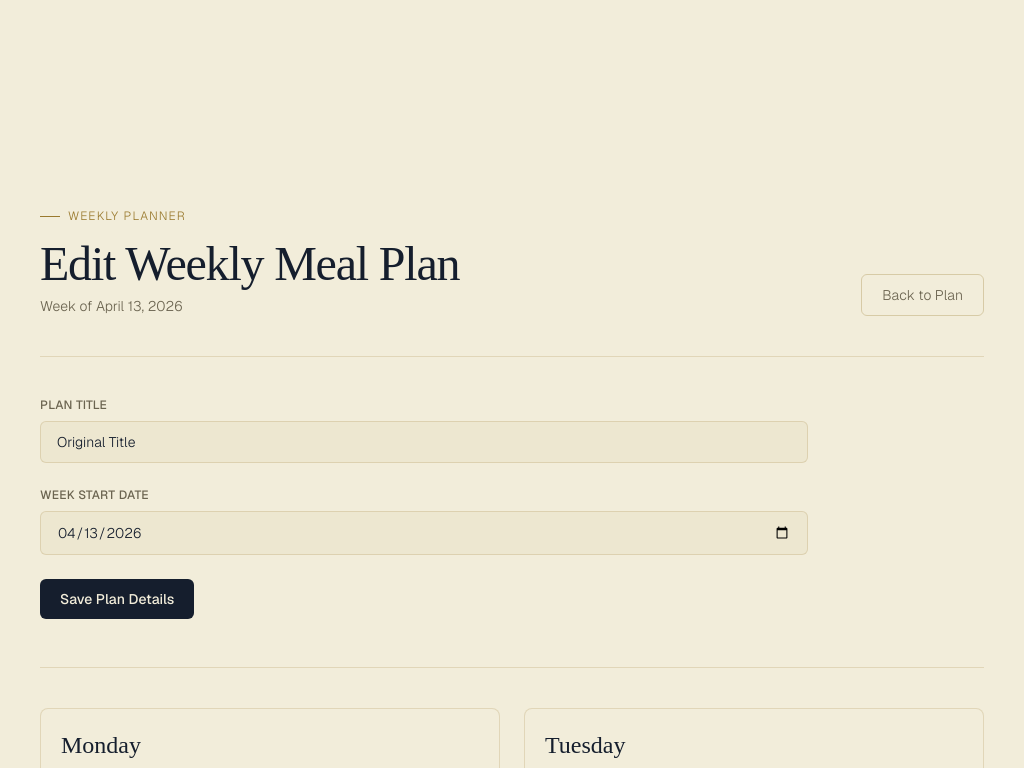
Scenario: Edit page: pre-filled data, validation, and saving plan details › shows loaded plan fields, surfaces PATCH errors for invalid data, then succeeds on valid Save
Expected: the field with placeholder "Exam Week Plan" holds "Original Title", [40,421,808,463]
Clear the date field at (424, 533), box [40,511,808,555]
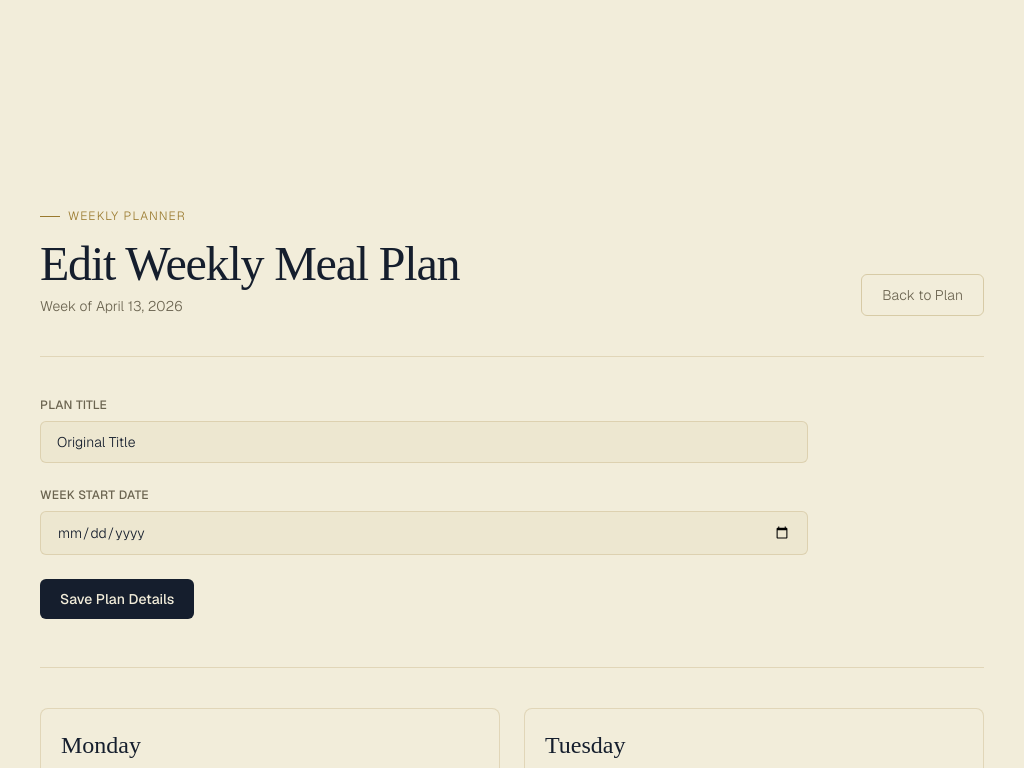
Click the button "Save Plan Details" at (117, 599), box [40,579,194,619]
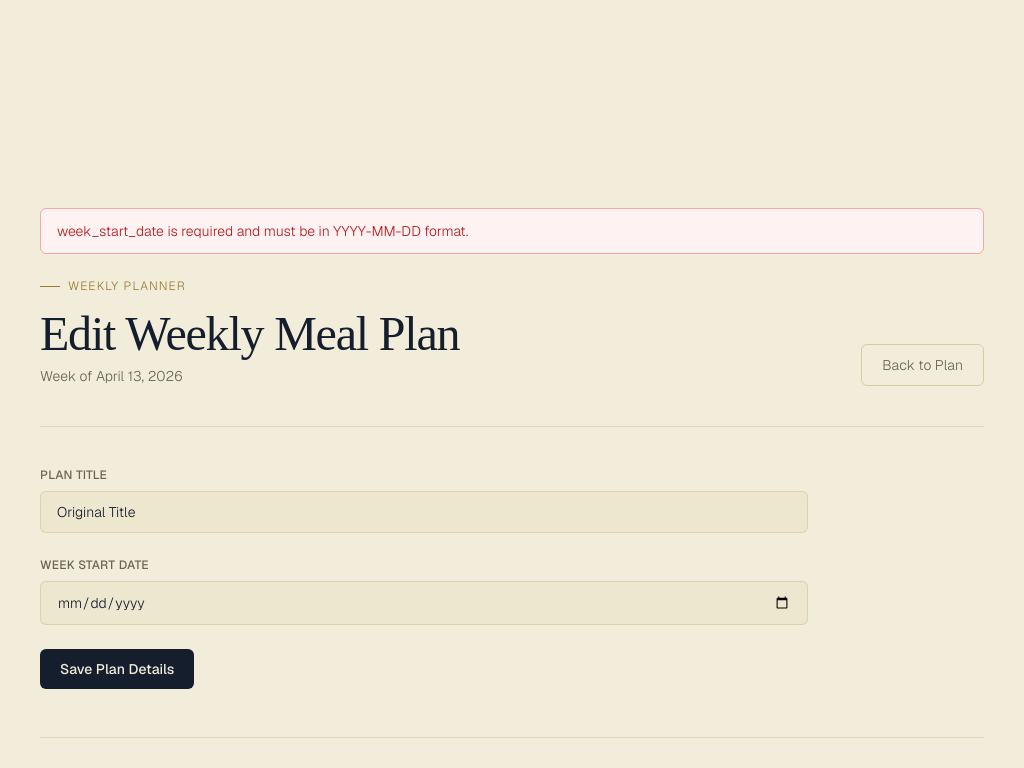
Expected: the text "week_start_date is required and must be in YYYY-MM-DD format." is shown, [40,208,984,254]
Replace the text in the field with placeholder "Exam Week Plan" with "Updated Title" at (424, 512), box [40,491,808,533]
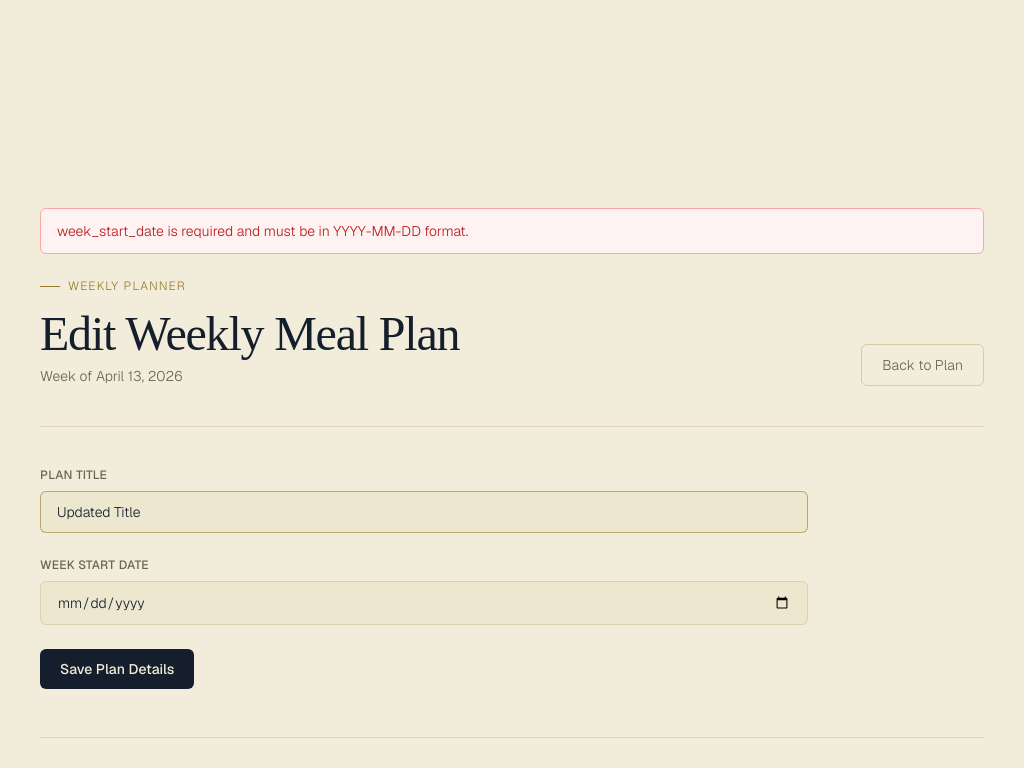
Type "2026-05-01" into the date field at (424, 603), box [40,581,808,625]
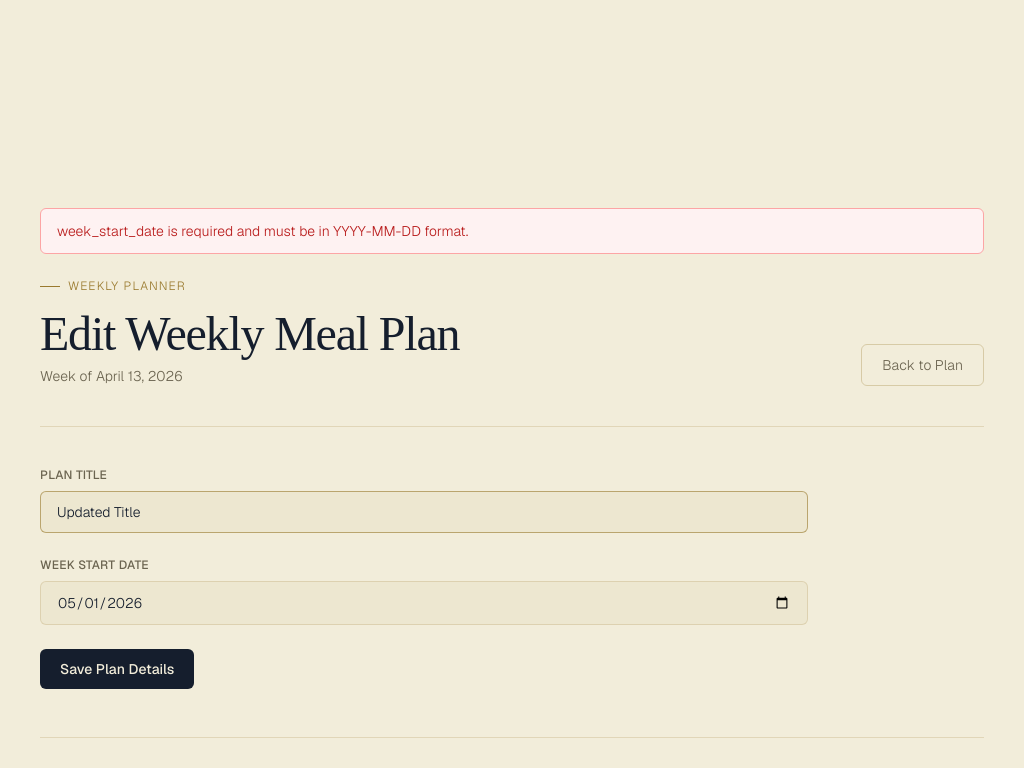
Click the button "Save Plan Details" at (117, 669), box [40,649,194,689]
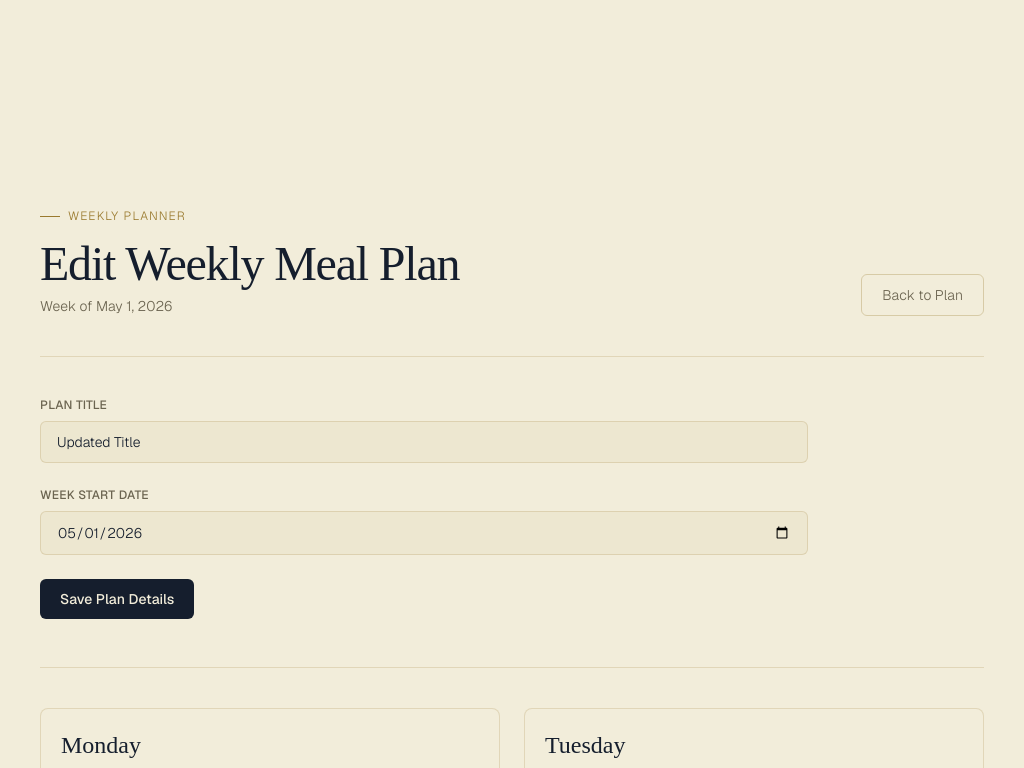
Expected: the text "week_start_date is required and must be in YYYY-MM-DD format." is gone
